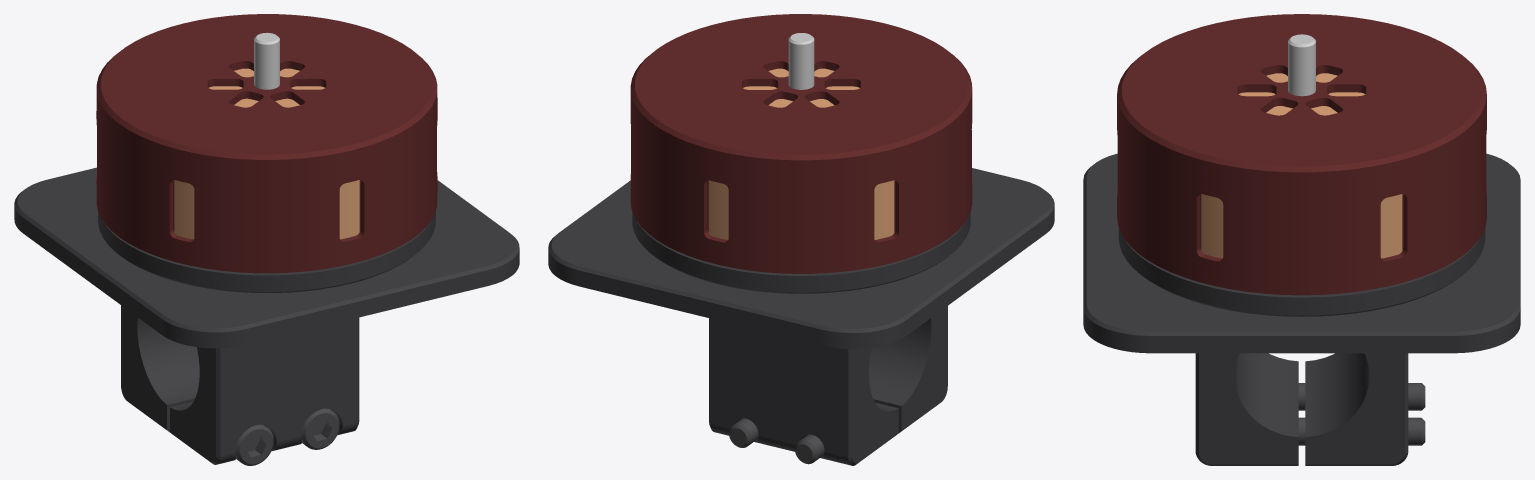
File: motor-mount.glb
3 views of the same model, side by side, from view 1: azimuth 30°, elevation 25°; view 2: azimuth 150°, elevation 25°; view 3: azimuth 270°, elevation 25° (orthographic). The views are drawn at different scales.
Parts seen in each view (by area): view 1: motor-mount; view 2: motor-mount; view 3: motor-mount.
Part boxes in pixels (<box>): motor-mount: <box>14,14,519,465</box>; motor-mount: <box>548,14,1054,465</box>; motor-mount: <box>1083,14,1520,465</box>.
Size of the model in its own units: 78 by 80.84 by 78.
